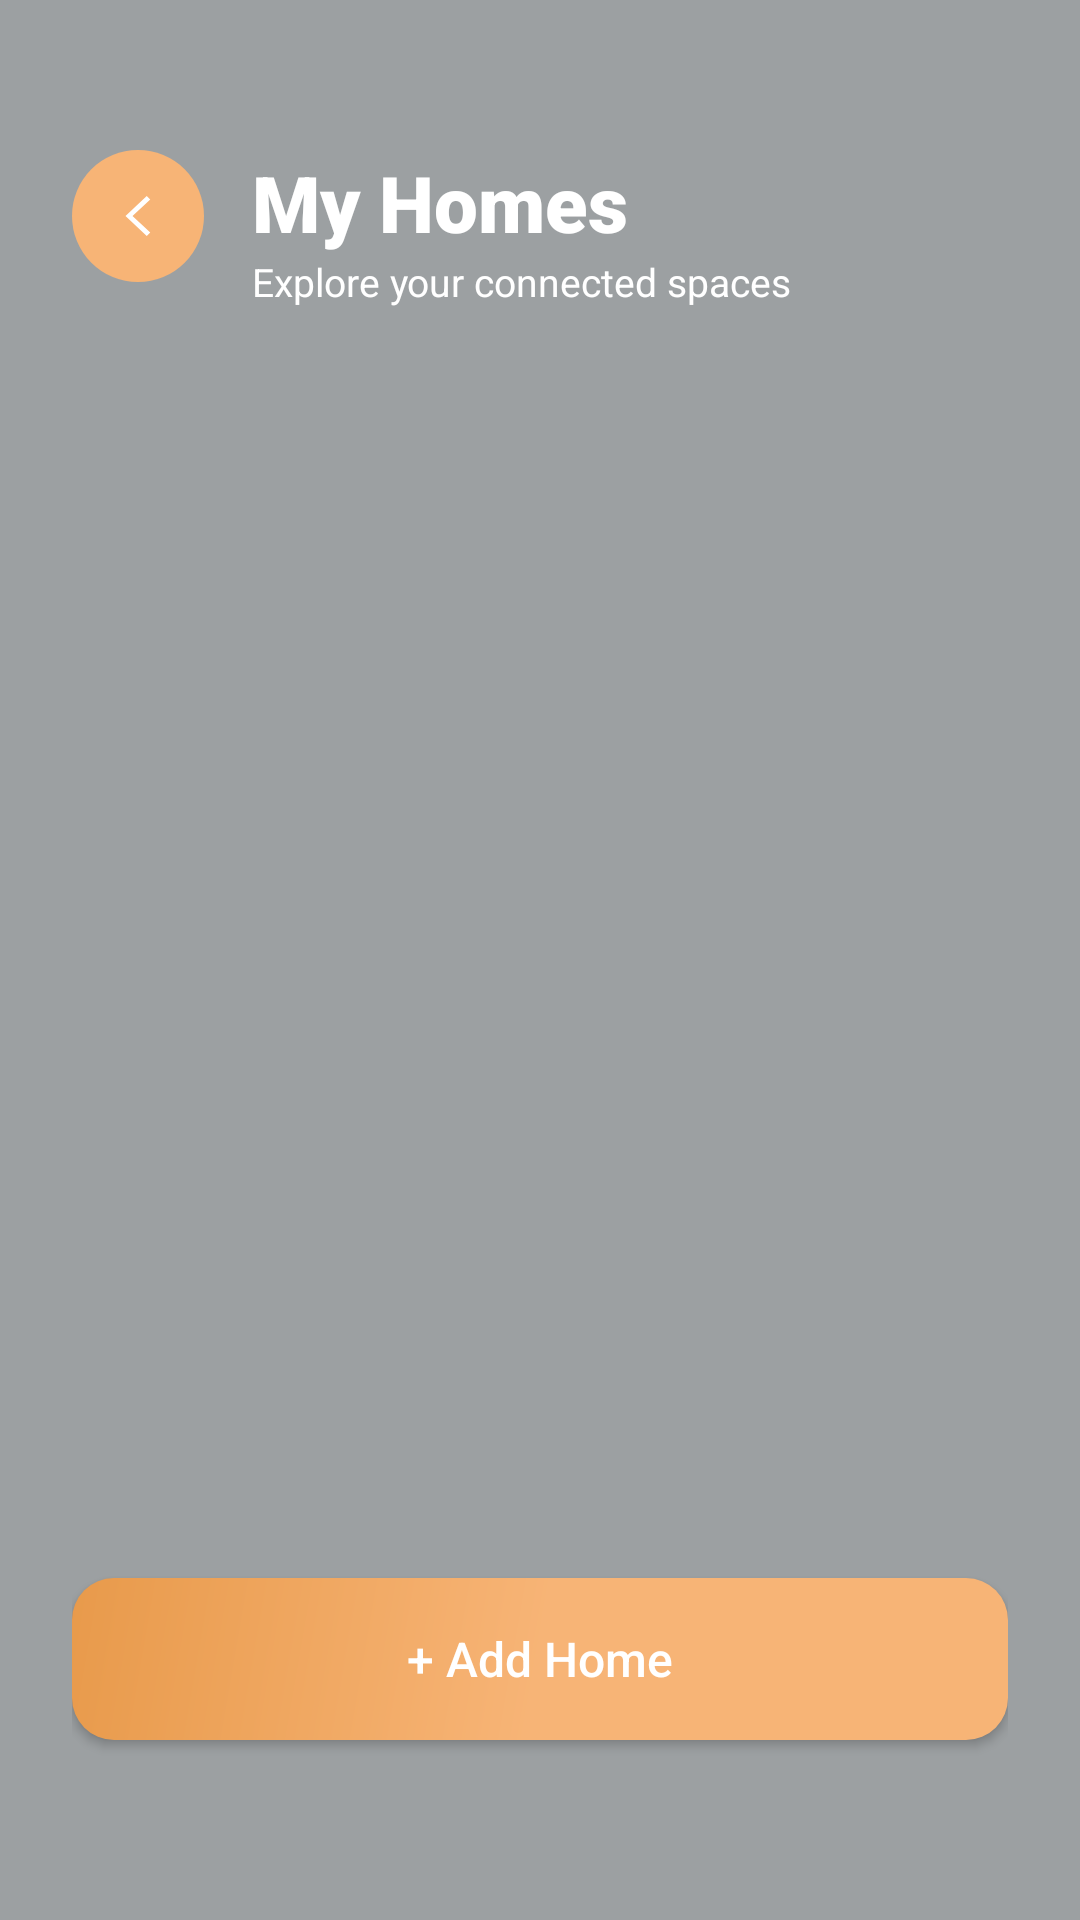

Icons on this 1080×1920 Android screen, each with its box as Rect(x1, y1, x2, y2):
back: Rect(126, 196, 150, 236)
